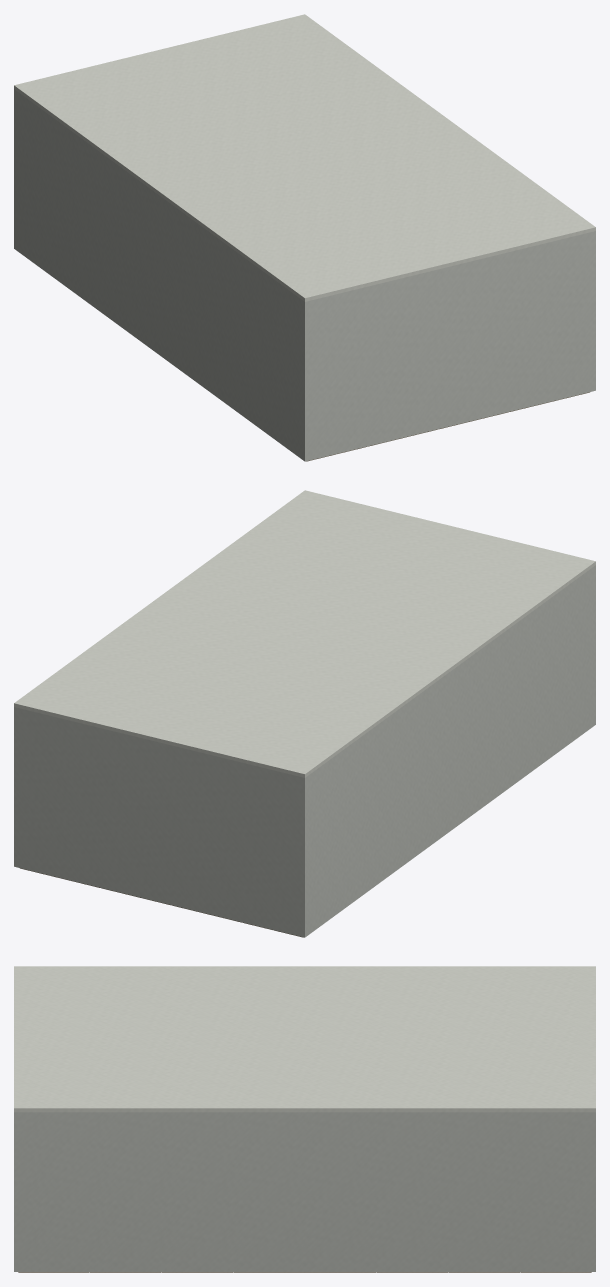
Rendered from registrar-room.glb.
3 renders of one model, top to bottom at view 1: azimuth 30°, elevation 25°; view 2: azimuth 150°, elevation 25°; view 3: azimuth 270°, elevation 25°, orthographic.
Visible parts, largest first — view 1: Plaster, Ceiling; view 2: Plaster, Ceiling; view 3: Plaster, Ceiling, Oak.
Part boxes in pixels (box(x1,y1,x2,y2)): Plaster: box(14, 89, 595, 461); Ceiling: box(14, 14, 595, 301); Plaster: box(14, 565, 595, 937); Ceiling: box(14, 490, 595, 777); Plaster: box(14, 1112, 595, 1271); Ceiling: box(14, 966, 595, 1112); Oak: box(18, 1272, 591, 1272).
Size of the model in its own units: 8.2 by 4.46 by 14.2.
13 materials, 7 textured.
